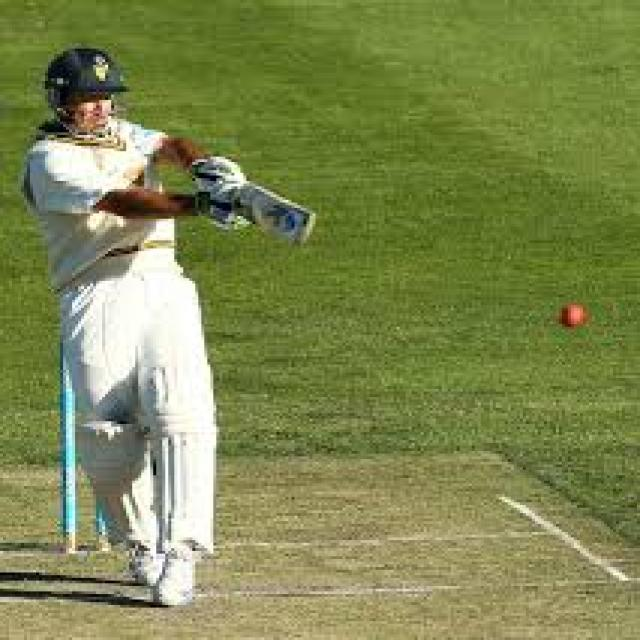toe: (295, 209, 318, 249)
